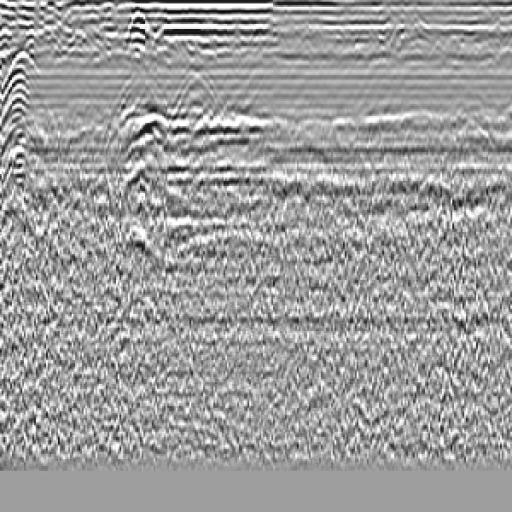metalic: (90, 15, 176, 258)
nonmetalic: (1, 36, 68, 193), (165, 48, 244, 159)
